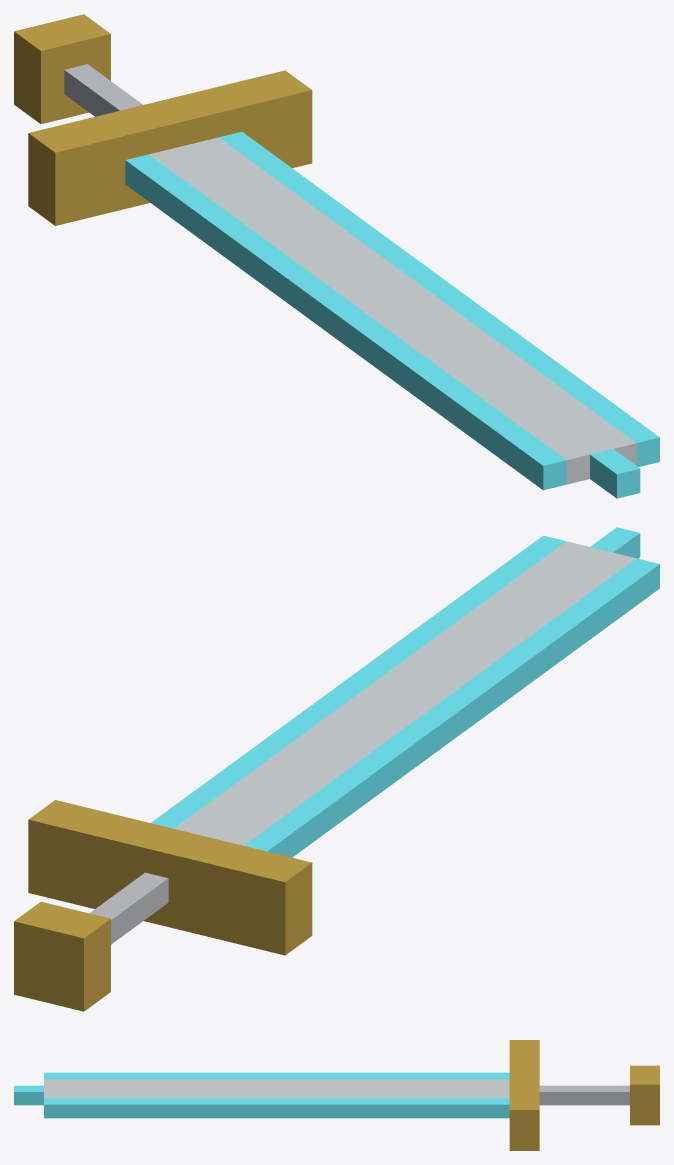
File: vox_blade_sky_star.glb
3 renders of one model, top to bottom at view 1: azimuth 30°, elevation 25°; view 2: azimuth 150°, elevation 25°; view 3: azimuth 270°, elevation 25°, orthographic. The views are drawn at different scales.
Parts seen in each view (by area): view 1: vox_blade_sky_star; view 2: vox_blade_sky_star; view 3: vox_blade_sky_star.
Boxes of the visible parts, x1=… form: vox_blade_sky_star: x1=14, y1=14, x2=659, y2=498; vox_blade_sky_star: x1=14, y1=527, x2=659, y2=1011; vox_blade_sky_star: x1=14, y1=1040, x2=659, y2=1150.
Bounding box in the file's own units: 0.22 × 0.06 × 0.86.
